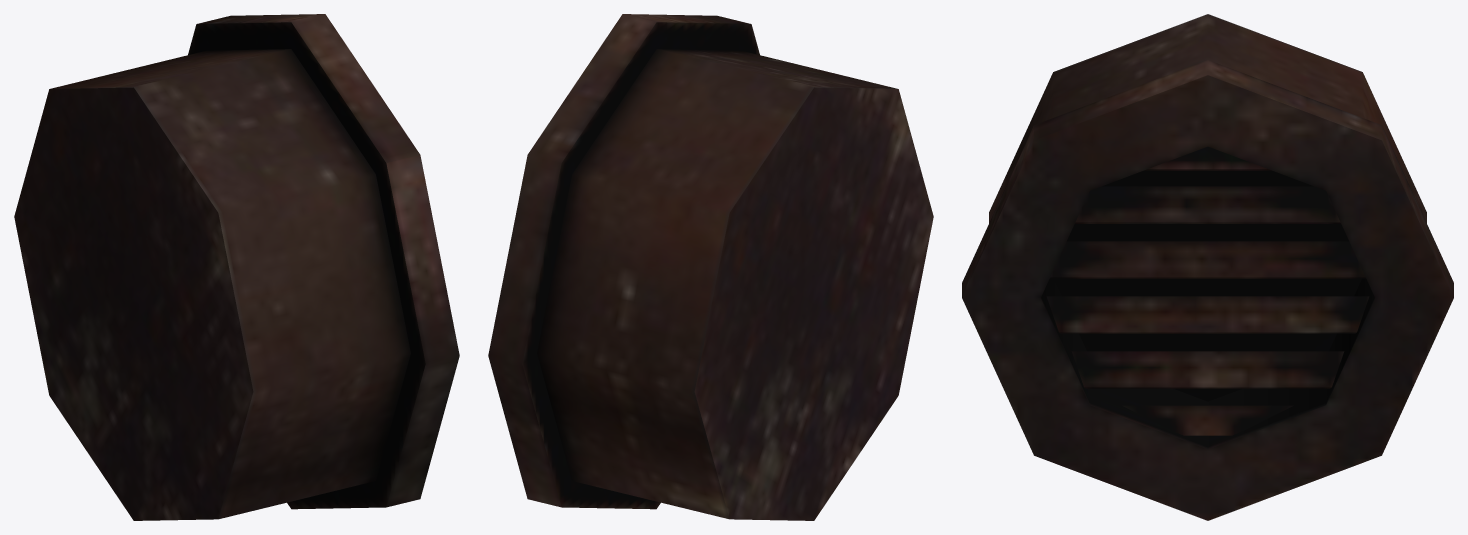
The model's file is RustyThick_Vent.FBX.
3 renders of one model, left to right at view 1: azimuth 30°, elevation 25°; view 2: azimuth 150°, elevation 25°; view 3: azimuth 270°, elevation 25°, orthographic. The views are drawn at different scales.
Parts seen in each view (by area): view 1: RustyThick_Vent; view 2: RustyThick_Vent; view 3: RustyThick_Vent.
Boxes of the visible parts, x1,y1,x2,y2 form: RustyThick_Vent: (14,14,459,520); RustyThick_Vent: (488,14,933,520); RustyThick_Vent: (962,14,1453,520).
Bounding box in the file's own units: 25.45 × 61.8 × 61.8.
